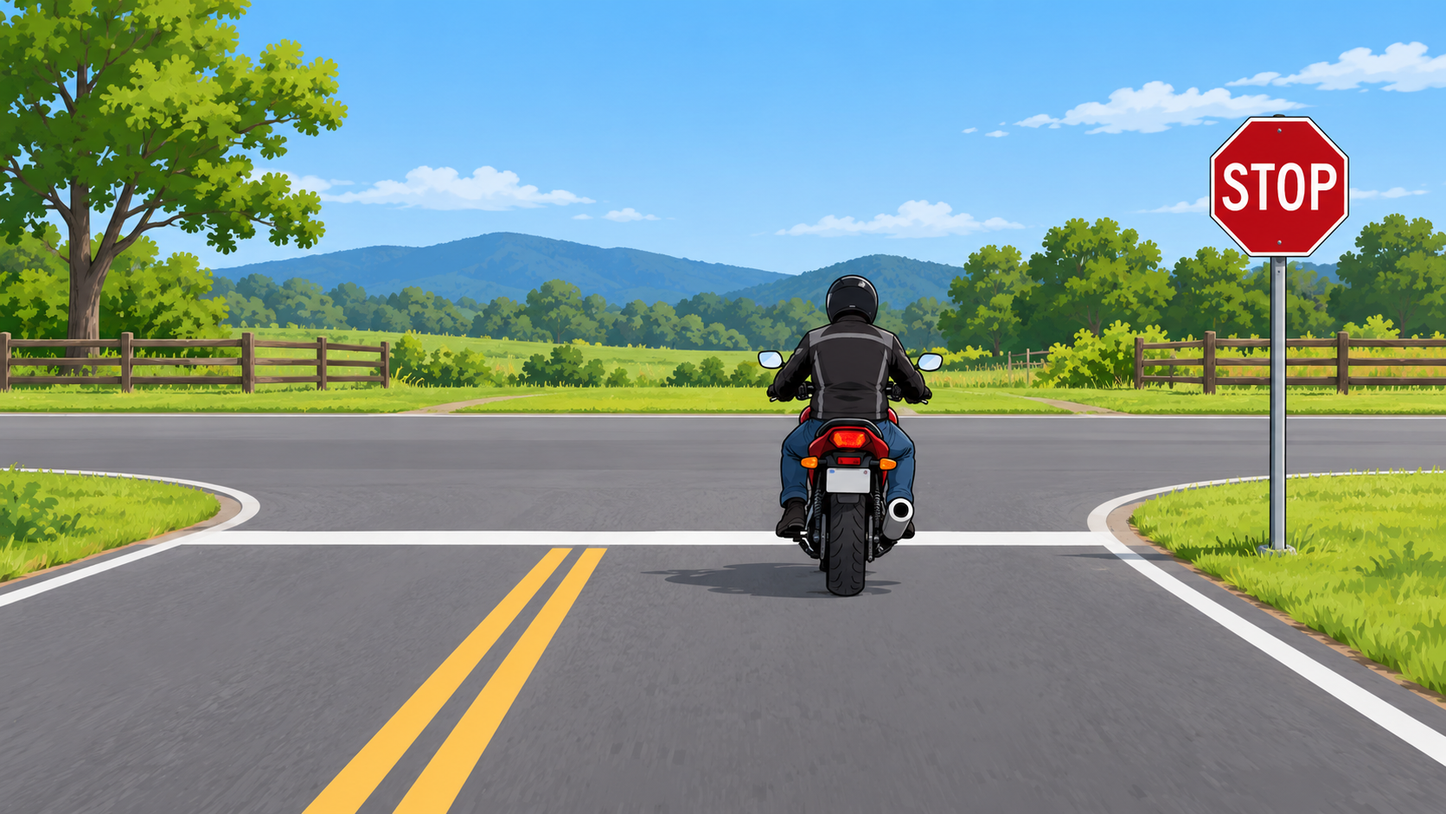motorcycle: (782, 368, 928, 598)
person: (774, 277, 924, 580)
stop_sign: (1210, 117, 1350, 257)
